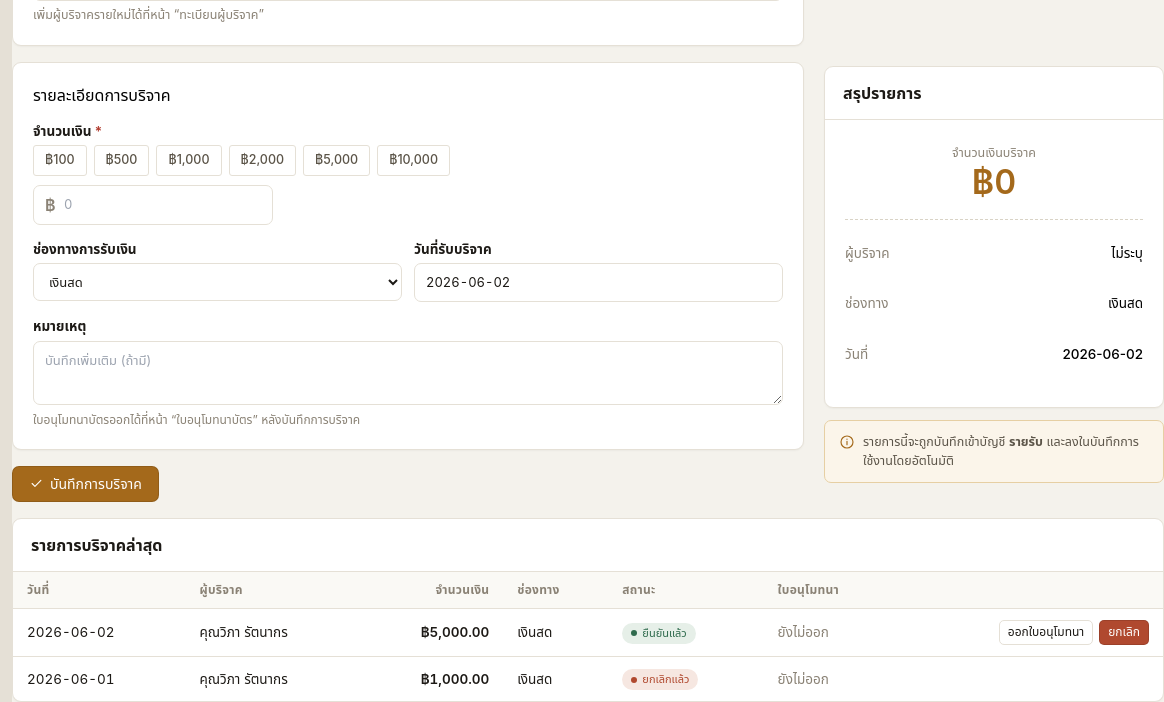
it: DesignDonations — wired to POST /donations › lists recent donations with issue-receipt and void actions (confirmed rows only)
(page scrolled)
Click the button "ออกใบอนุโมทนา". click: x=1046, y=633
box: [999,620,1093,645]
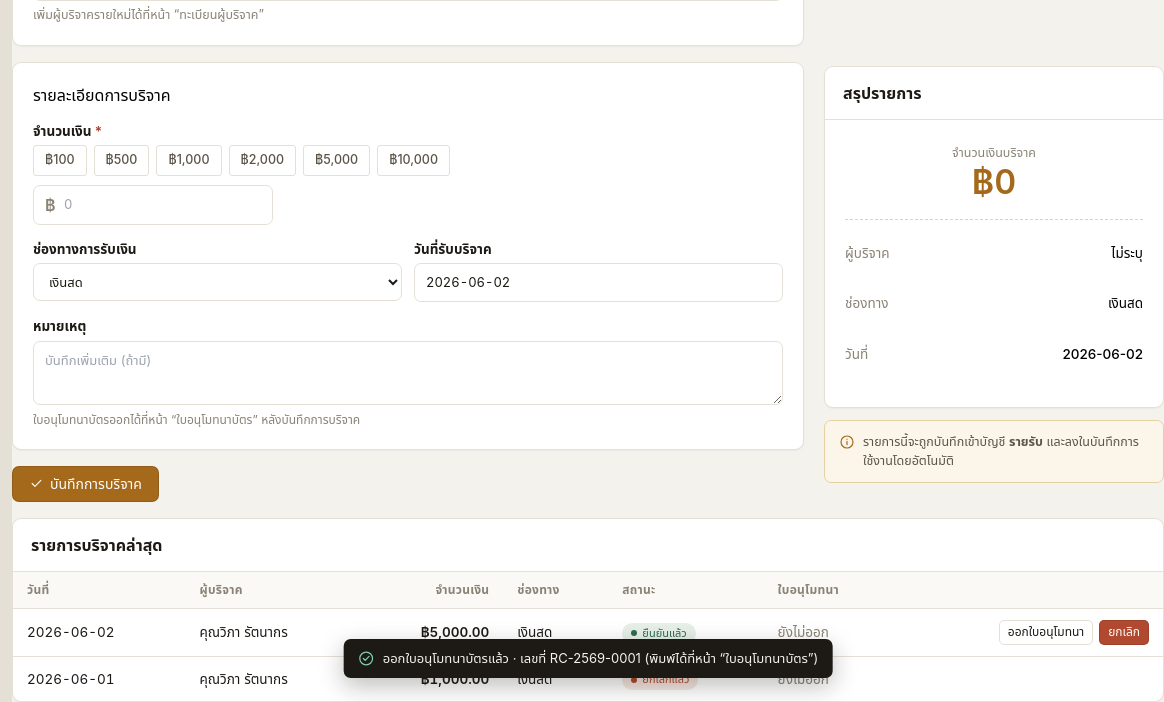
Result: the text "ออกใบอนุโมทนาบัตรแล้ว · เลขที่ RC-2569-0001" is shown at [383,650,818,666]
